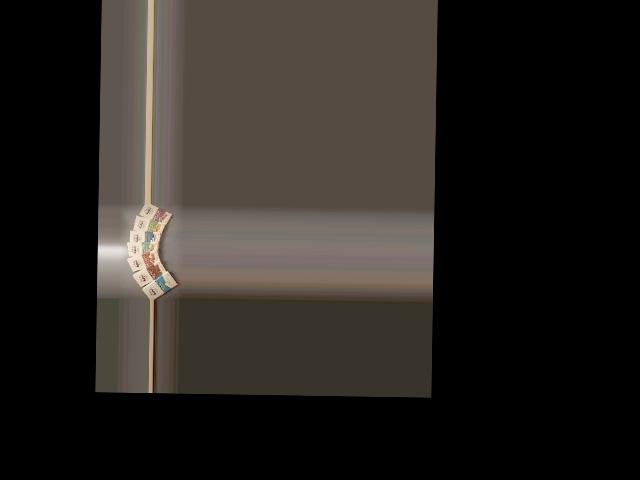chocolate: (140, 270, 180, 299)
